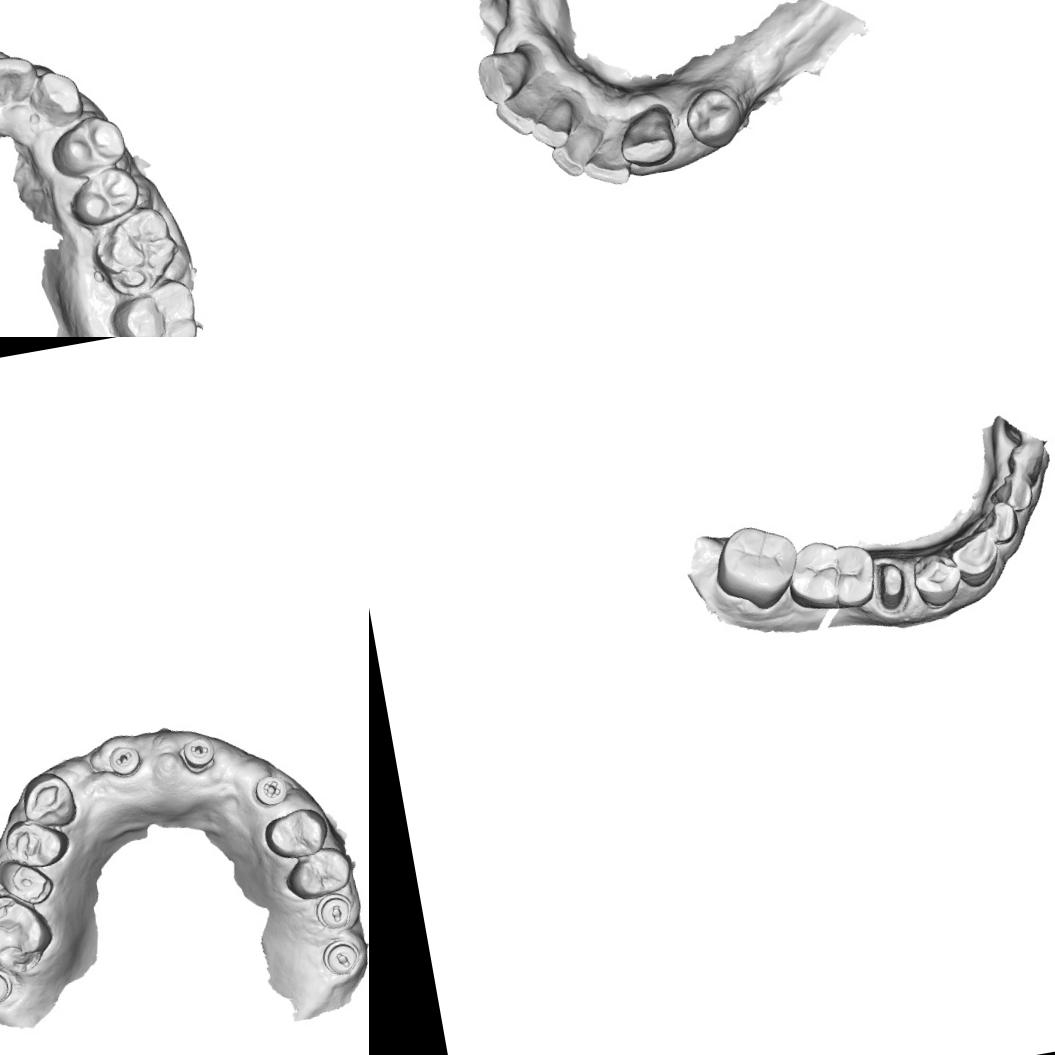canine: (613, 100, 682, 172), (15, 766, 80, 834), (472, 42, 540, 106), (941, 526, 1004, 592), (26, 65, 86, 128)
crown: (868, 555, 914, 617)
implant: (0, 965, 16, 1008)
implant_minus: (318, 936, 364, 979), (176, 732, 218, 778), (312, 889, 356, 932), (104, 742, 144, 779)
implant_plus: (248, 771, 290, 809)
incisor: (546, 122, 605, 180), (577, 136, 636, 191), (525, 98, 580, 154), (492, 85, 546, 140), (970, 497, 1019, 548), (983, 470, 1035, 516), (0, 48, 37, 109), (1002, 438, 1045, 484)
molar: (706, 516, 806, 618), (88, 203, 184, 299), (780, 530, 880, 620), (107, 276, 204, 337), (0, 887, 59, 980)
premolar: (45, 113, 132, 178), (64, 162, 144, 230), (678, 81, 747, 154), (0, 810, 72, 873), (259, 802, 333, 863), (280, 843, 354, 902), (907, 546, 966, 612), (0, 852, 56, 911)
